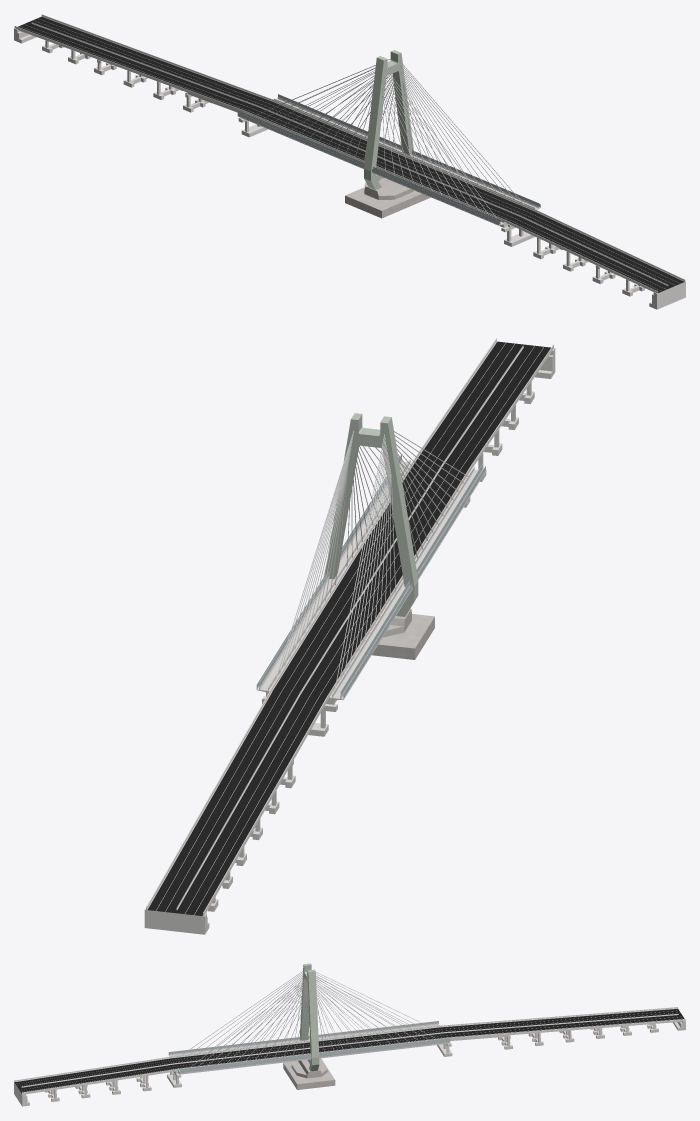
File: bridge.glb
The picture shows the model from 3 angles, top to bottom: view 1: azimuth 30°, elevation 25°; view 2: azimuth 150°, elevation 25°; view 3: azimuth 270°, elevation 25°; orthographic projection. The views are drawn at different scales.
Visible parts, largest first — view 1: 旋转桥体, Mesh93, Mesh57_2, Mesh89, Mesh88, Mesh67, Mesh37_2, Mesh72; view 2: 旋转桥体, Mesh57_2, Mesh88, Mesh93, Mesh89, Mesh67, Mesh37_2, Mesh81; view 3: 旋转桥体, Mesh93, Mesh57_2, Mesh89, Mesh88, Mesh67, Mesh37_2.
Part boxes in pixels (left/top/right/bottom): 旋转桥体: left=237, top=50, right=540, bottom=227; Mesh93: left=506, top=211, right=621, bottom=264; Mesh57_2: left=96, top=47, right=211, bottom=91; Mesh89: left=185, top=77, right=271, bottom=112; Mesh88: left=18, top=18, right=122, bottom=58; Mesh67: left=595, top=253, right=680, bottom=291; Mesh37_2: left=345, top=187, right=430, bottom=218; Mesh72: left=649, top=280, right=685, bottom=309; 旋转桥体: left=256, top=413, right=485, bottom=704; Mesh57_2: left=192, top=748, right=296, bottom=838; Mesh88: left=149, top=832, right=248, bottom=912; Mesh93: left=415, top=392, right=519, bottom=468; Mesh89: left=239, top=688, right=328, bottom=754; Mesh67: left=463, top=344, right=551, bottom=397; Mesh37_2: left=372, top=614, right=434, bottom=659; Mesh81: left=144, top=907, right=209, bottom=934; 旋转桥体: left=168, top=963, right=450, bottom=1078; Mesh93: left=79, top=1058, right=178, bottom=1084; Mesh57_2: left=502, top=1015, right=601, bottom=1035; Mesh89: left=440, top=1020, right=509, bottom=1040; Mesh88: left=594, top=1009, right=681, bottom=1027; Mesh67: left=18, top=1072, right=85, bottom=1094; Mesh37_2: left=283, top=1058, right=335, bottom=1089.
Size of the model in its own units: 187 by 107 by 595.
7 materials, 1 textured.
